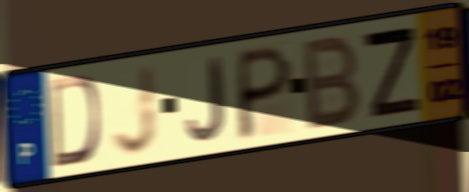B: (302, 31, 364, 134)
D: (48, 73, 102, 171)
J: (110, 61, 160, 158), (184, 54, 227, 144)
P: (234, 41, 296, 143)
Z: (360, 24, 423, 121)
